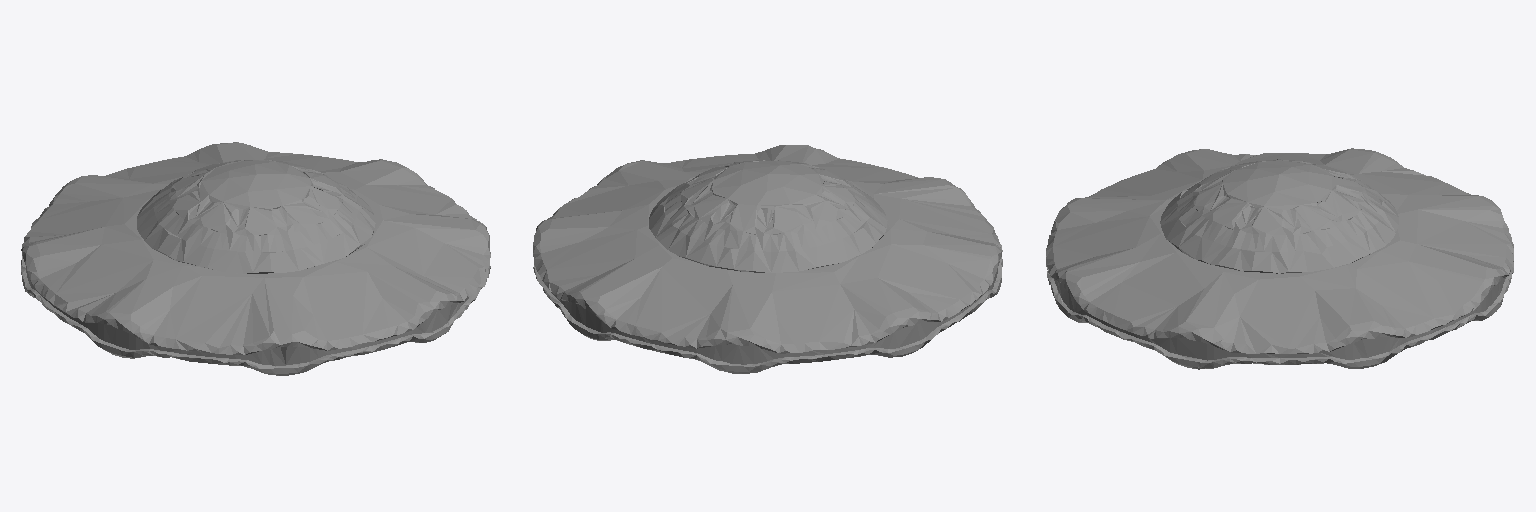
Rendered from frame_079.obj.
3 renders of one model, left to right at view 1: azimuth 30°, elevation 25°; view 2: azimuth 150°, elevation 25°; view 3: azimuth 270°, elevation 25°, orthographic.
Visible parts, largest first — view 1: 13884_UFO_Saucer_v1_l2; view 2: 13884_UFO_Saucer_v1_l2; view 3: 13884_UFO_Saucer_v1_l2.
Part boxes in pixels (x1,y1,x2,y2): 13884_UFO_Saucer_v1_l2: (21, 142, 490, 375); 13884_UFO_Saucer_v1_l2: (533, 145, 1002, 373); 13884_UFO_Saucer_v1_l2: (1046, 148, 1513, 369).
Bounding box in the file's own units: 12.69 × 4.88 × 12.7.